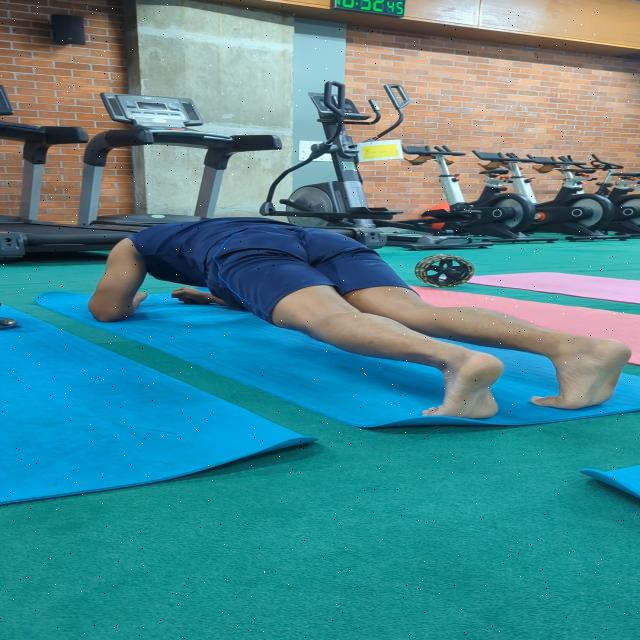Normal_Plunk: (71, 199, 640, 429)
